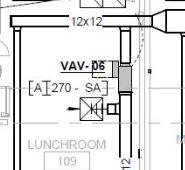VAV: (111, 56, 137, 98)
